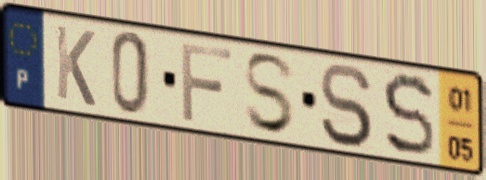0: (108, 29, 156, 120)
F: (178, 39, 235, 125)
K: (52, 21, 98, 111)
S: (379, 71, 437, 160), (318, 61, 375, 151), (241, 51, 299, 138)
